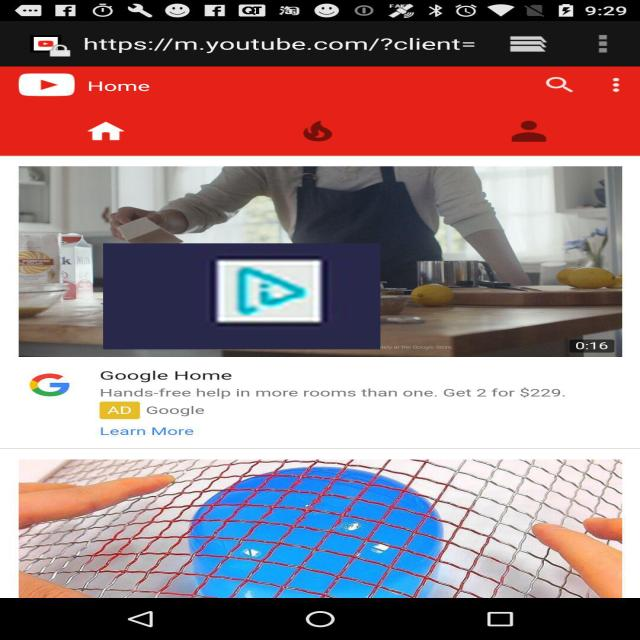sneaking: (103, 243, 381, 349)
